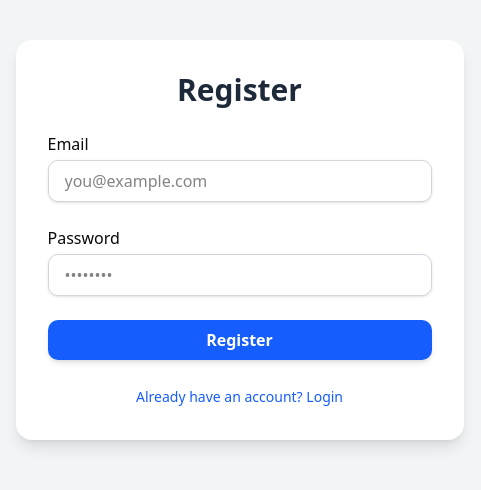
Register - Email and Password Validation (Formik + Yup) › Password Validation › should show error when password missing uppercase
The width and height of the screenshot is (481, 490).
Type "aaaa@gmail.com" into the field named "email" at (240, 181), box [48, 160, 432, 202]
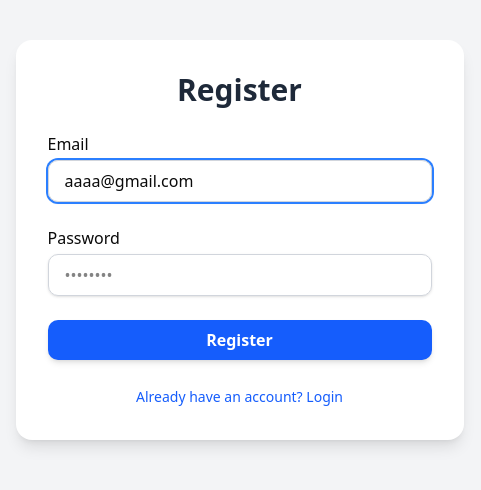
Type "a123456789_" into the password field named "password" at (240, 275), box [48, 254, 432, 296]
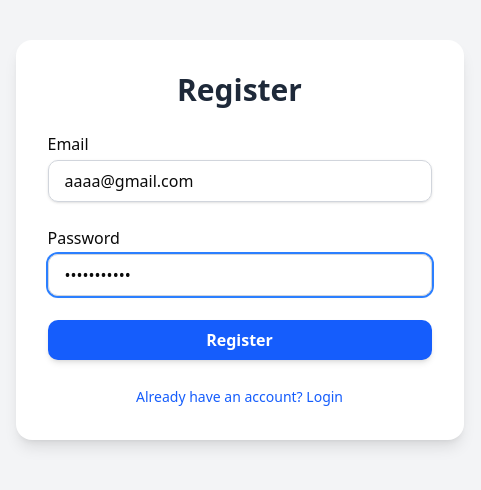
Click the submit button at (240, 340), box [48, 320, 432, 360]
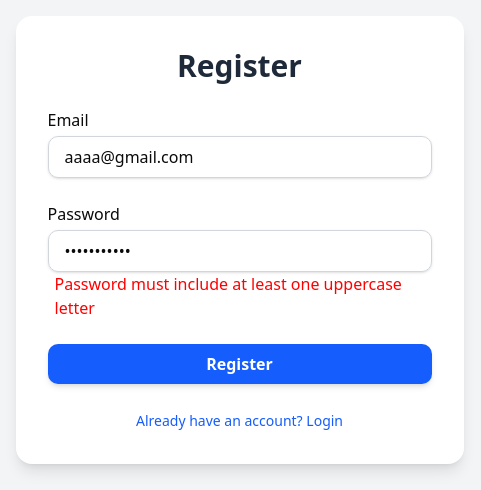
Expected: the heading named "error-password" reads "Password must include at least one uppercase letter", [48, 272, 432, 320]
